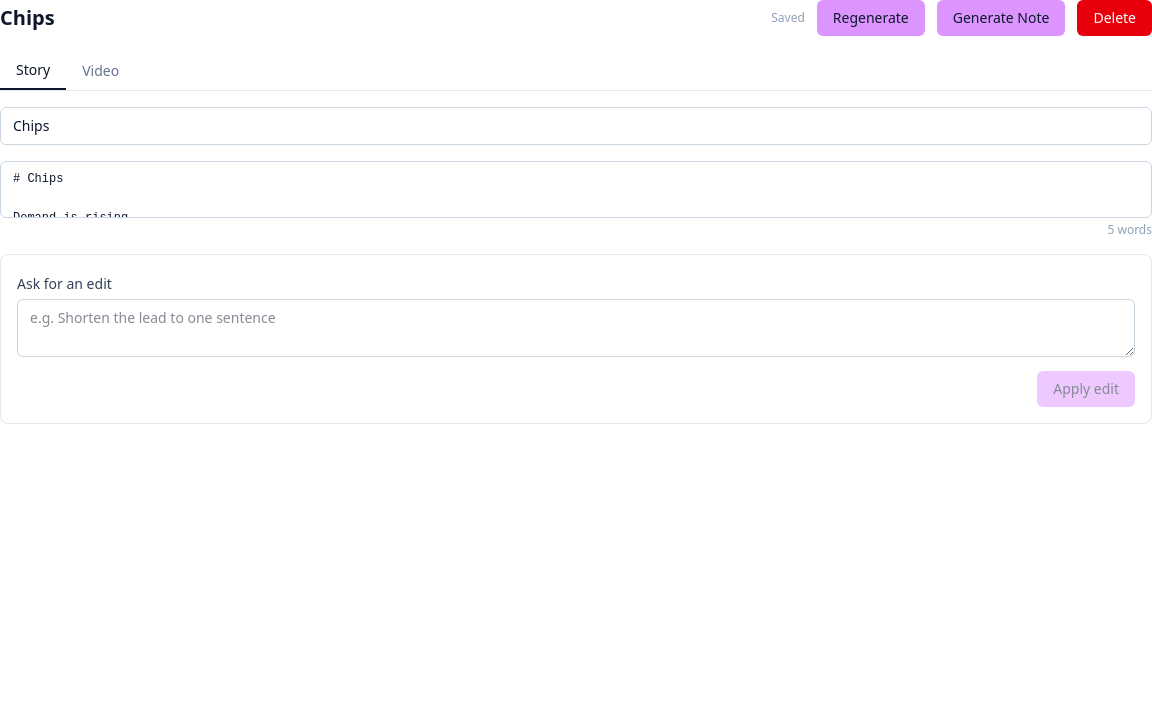
Test: StoryEditor › opens the regenerate modal pre-filled with the story's saved prompts
Click the button "Regenerate". click: (871, 18)
box: [817,0,925,36]
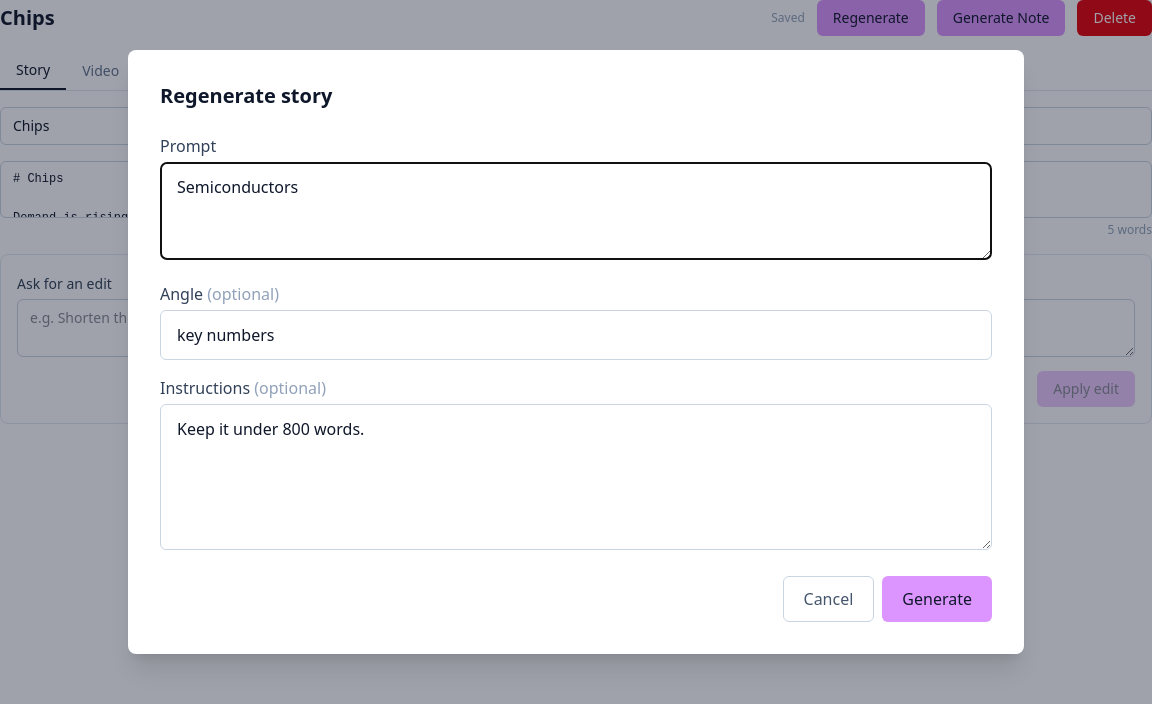
Now the heading "Regenerate story" is shown, box [160,82,332,109]
Now the text box with placeholder "e.g. Write about chip demand in 2026" holds "Semiconductors", box [160,162,992,260]
Now the field with placeholder "e.g. key numbers and statistics" holds "key numbers", box [160,310,992,360]
